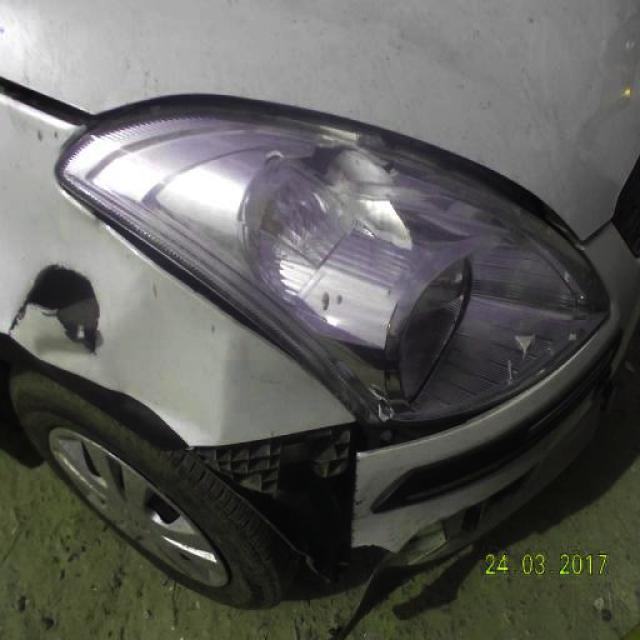car damage: (192, 405, 512, 590), (9, 263, 103, 356)
